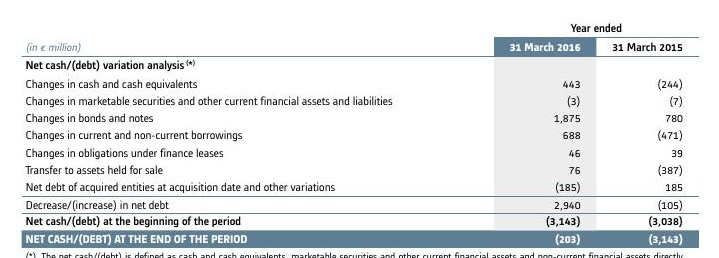table: (0, 0, 719, 258)
